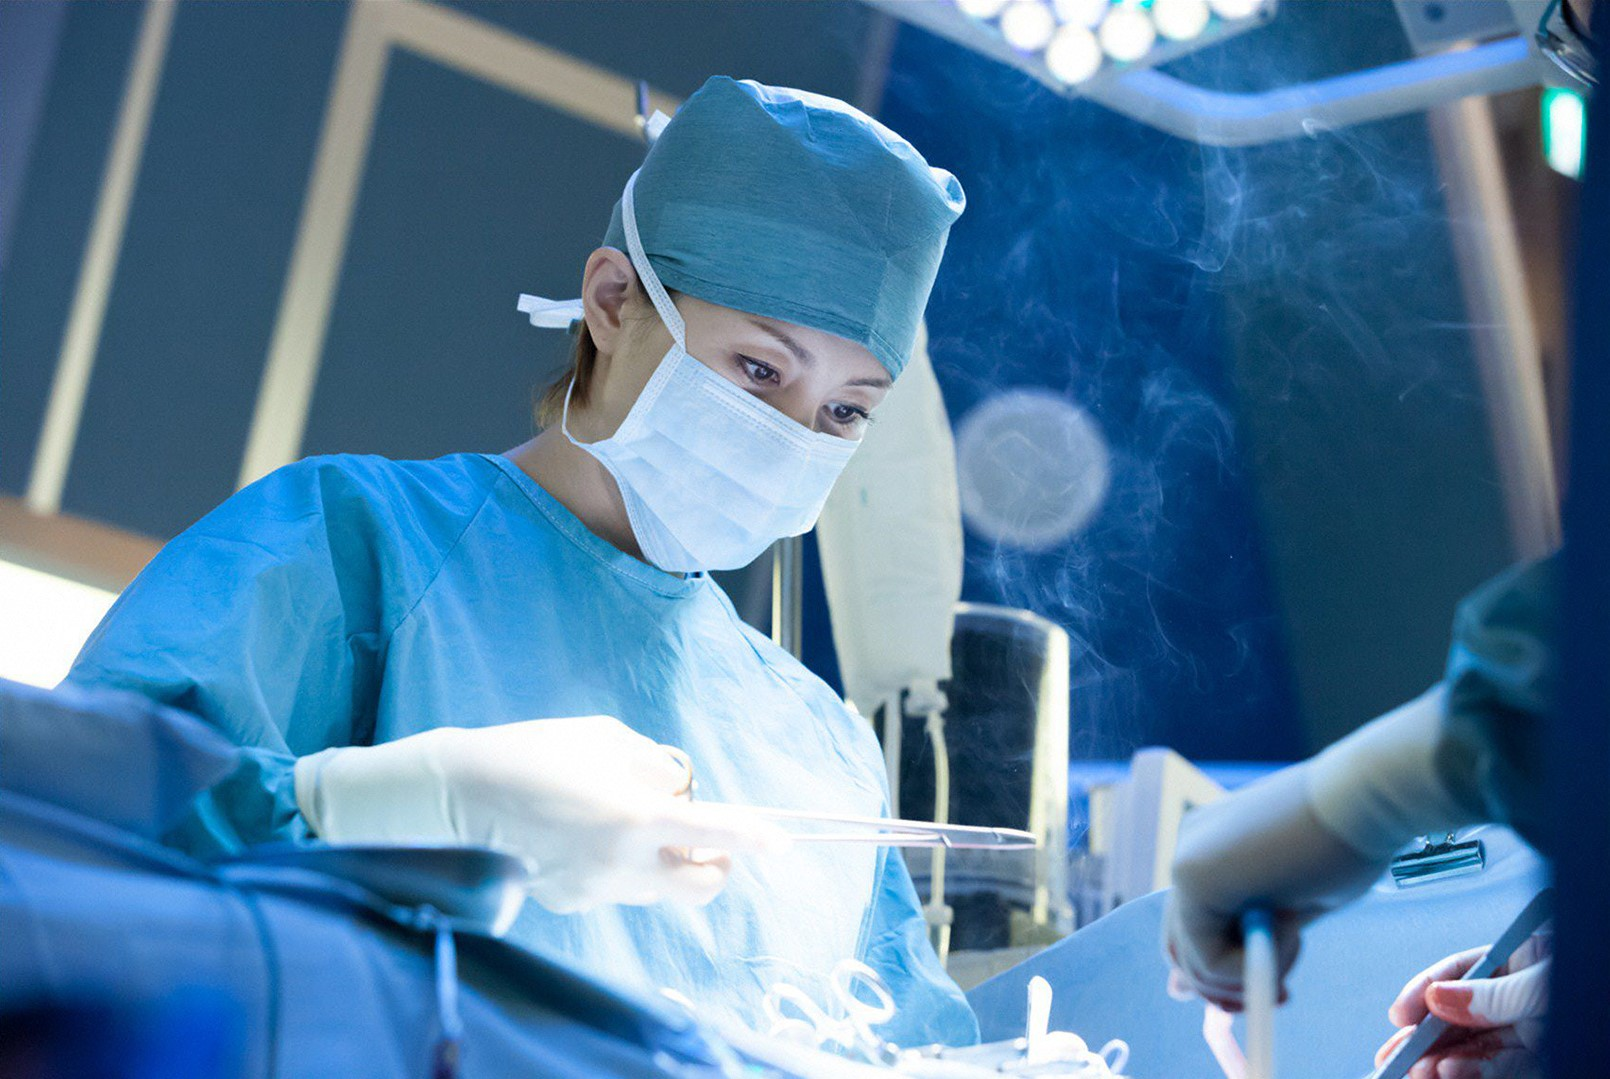mask: (592, 344, 865, 572)
